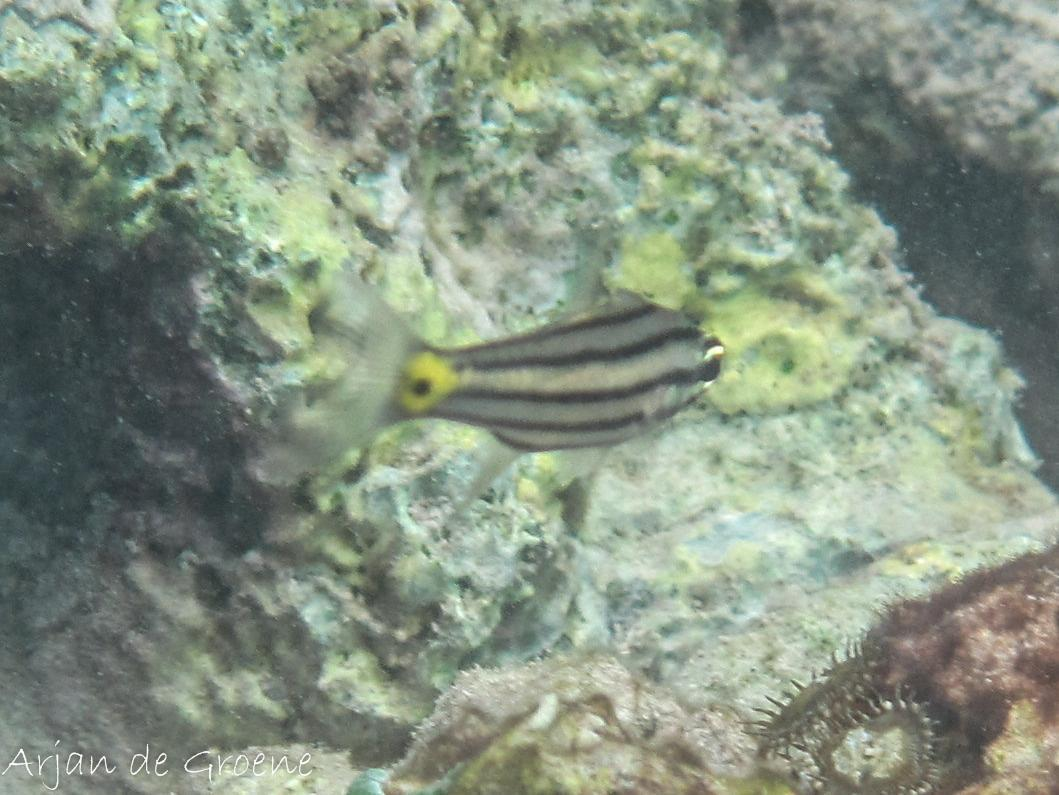Fish: (257, 257, 732, 505)
